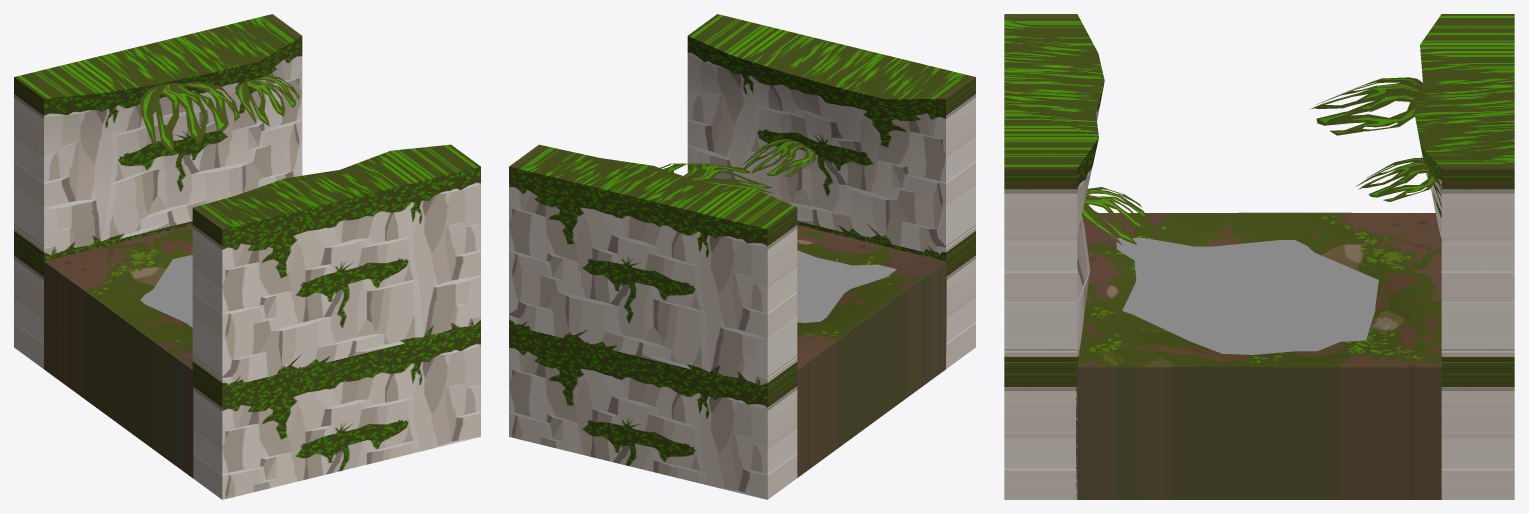
File: CaseEau.fbx
3 views of the same model, side by side, from view 1: azimuth 30°, elevation 25°; view 2: azimuth 150°, elevation 25°; view 3: azimuth 270°, elevation 25° (orthographic). The views are drawn at different scales.
Parts seen in each view (by area): view 1: Box016, Box015, Box014, Plane001, Box017, Plane002; view 2: Box015, Box016, Box014, Box017, Plane003, Plane001; view 3: Box014, Box016, Box015, Box017, Plane001, Plane003, Plane002.
Part boxes in pixels (x1,y1,x2,y2): Box016: (192,144,480,499); Box015: (14,14,302,368); Box014: (44,225,193,478); Plane001: (139,81,239,154); Box017: (140,255,192,328); Plane002: (235,75,299,126); Box015: (509,144,797,499); Box016: (687,14,975,368); Box014: (797,225,946,477); Box017: (797,250,896,322); Plane003: (743,139,816,176); Plane001: (660,163,773,193); Box014: (1076,212,1441,499); Box016: (1004,14,1104,499); Box015: (1414,14,1514,499); Box017: (1116,238,1378,354); Plane001: (1310,77,1422,135); Plane003: (1082,187,1146,245); Plane002: (1355,157,1435,201).
Size of the model in its own units: 197 by 197 by 275.
4 materials, 3 textured.
